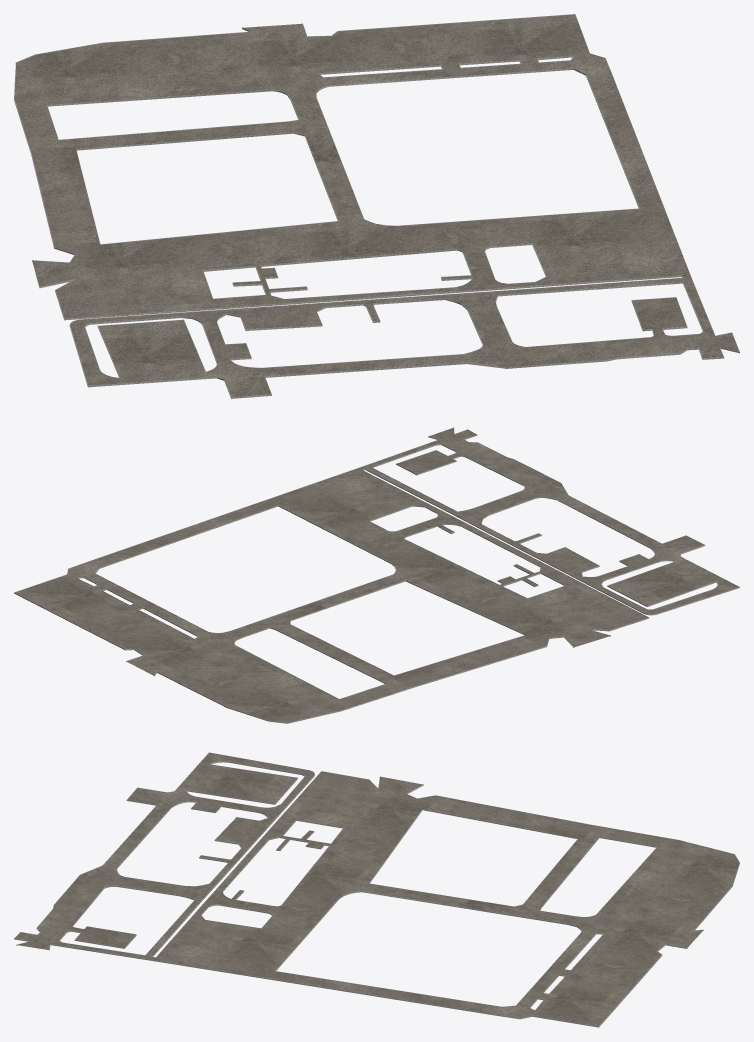
Rendered from road_p02_02.fbx.
3 renders of one model, top to bottom at view 1: azimuth 30°, elevation 25°; view 2: azimuth 150°, elevation 25°; view 3: azimuth 270°, elevation 25°, orthographic. The views are drawn at different scales.
Visible parts, largest first — view 1: road_p02_02; view 2: road_p02_02; view 3: road_p02_02.
Part boxes in pixels (x1,y1,x2,y2): road_p02_02: [14, 14, 739, 398]; road_p02_02: [14, 427, 739, 723]; road_p02_02: [14, 752, 739, 1027].
Bounding box in the file's own units: 38872 × 69.99 × 43503.
